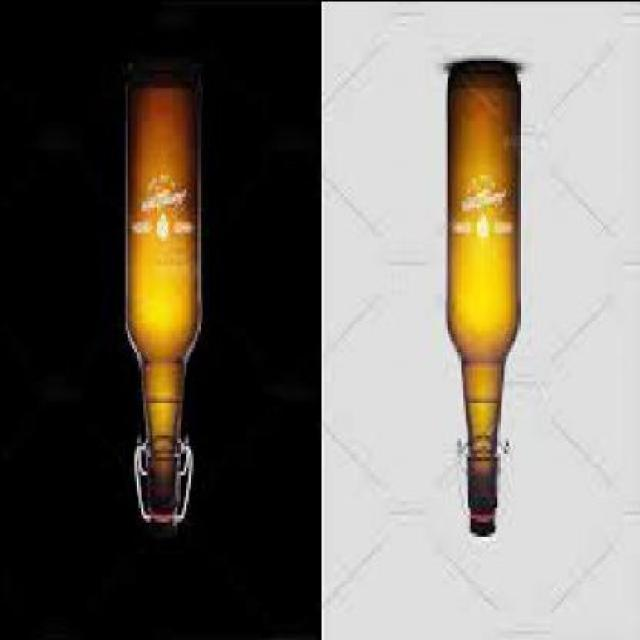GLASS: (123, 65, 203, 524), (446, 62, 520, 524)
